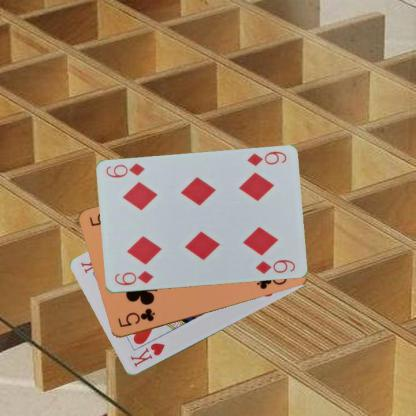5c: (115, 306, 157, 328)
6d: (111, 268, 155, 287), (244, 149, 288, 168)
Kh: (127, 340, 167, 370)
